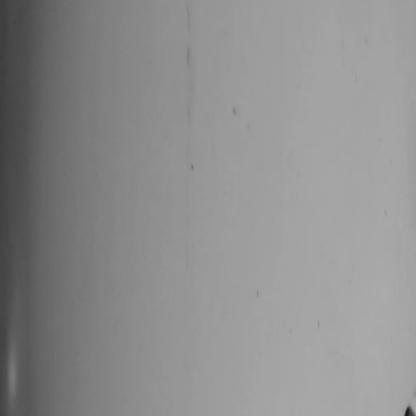kongdong: (391, 399, 416, 416)
